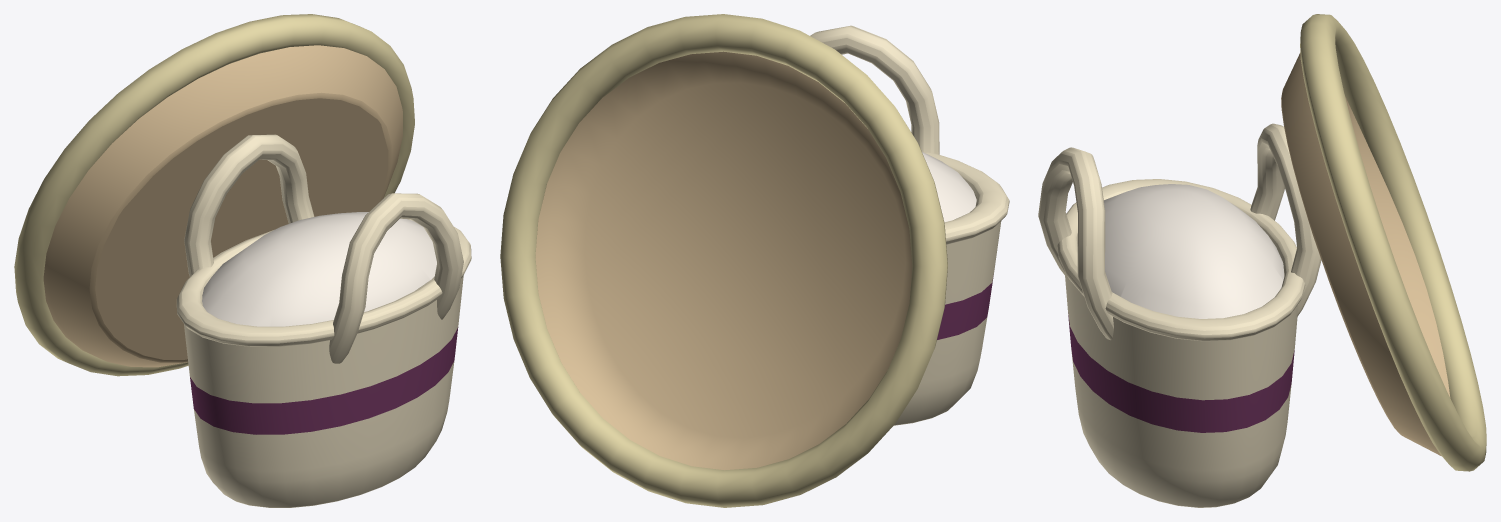
Rendered from pf_basket_2.glb.
3 views of the same model, side by side, from view 1: azimuth 30°, elevation 25°; view 2: azimuth 150°, elevation 25°; view 3: azimuth 270°, elevation 25° (orthographic). The views are drawn at different scales.
Visible parts, largest first — view 1: basket_2_pf_buri, basket_2_pf_rattan, basket_2_bamboo, basket_2_pf_shells; view 2: basket_2_pf_rattan, basket_2_bamboo, basket_2_pf_buri, basket_2_pf_shells; view 3: basket_2_pf_buri, basket_2_bamboo, basket_2_pf_shells, basket_2_pf_rattan.
Part boxes in pixels (left/top/right/bottom): basket_2_pf_buri: left=176, top=134, right=471, bottom=507; basket_2_pf_rattan: left=43, top=45, right=402, bottom=367; basket_2_bamboo: left=14, top=14, right=414, bottom=376; basket_2_pf_shells: left=202, top=212, right=436, bottom=326; basket_2_pf_rattan: left=535, top=51, right=912, bottom=470; basket_2_bamboo: left=500, top=14, right=947, bottom=507; basket_2_pf_buri: left=810, top=25, right=1009, bottom=425; basket_2_pf_shells: left=922, top=152, right=976, bottom=222; basket_2_pf_buri: left=1038, top=123, right=1321, bottom=507; basket_2_bamboo: left=1300, top=14, right=1486, bottom=471; basket_2_pf_shells: left=1104, top=184, right=1284, bottom=318; basket_2_pf_rattan: left=1281, top=53, right=1450, bottom=455.
Bounding box in the file's own units: 0.7313 × 0.6894 × 0.6778.
